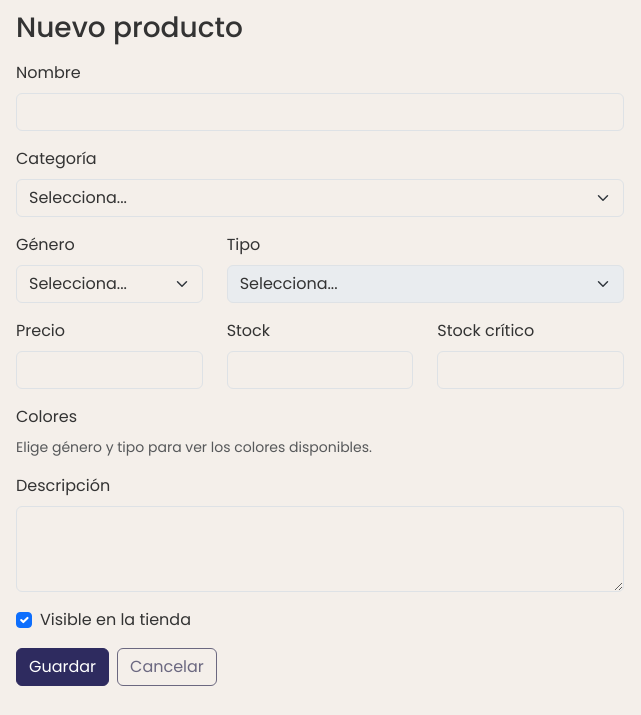
Test case: ProductoFormulario - creación › al enviar vacío muestra todos los errores y no llama al servidor
Step 1. Click the button "Guardar" → click(63, 667), box [16, 648, 109, 686]
(page scrolled)
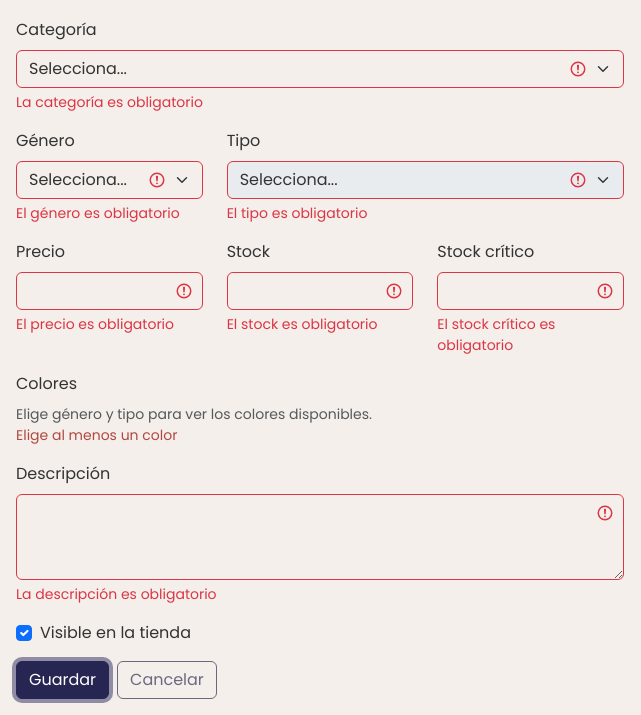
Result: the text "La categoría es obligatorio" is shown at [16, 92, 203, 112]
Result: the text "El género es obligatorio" is shown at [16, 203, 203, 224]
Result: the text "El tipo es obligatorio" is shown at [227, 203, 367, 223]
